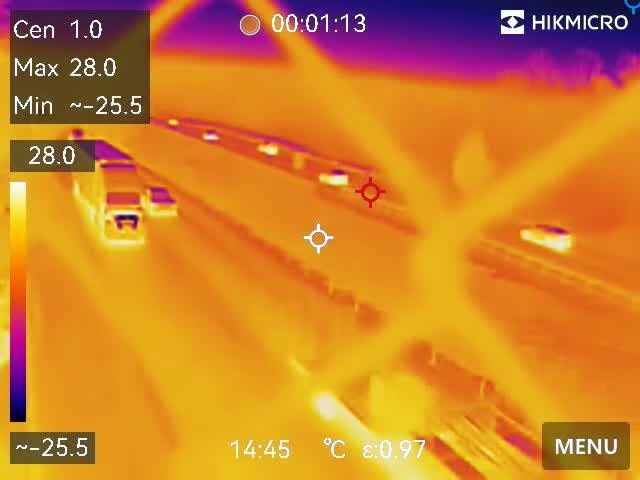heavyTruck: (67, 137, 150, 246)
largeCar: (517, 221, 582, 251)
vehicle: (143, 180, 179, 219), (252, 138, 285, 159), (318, 172, 354, 190), (201, 129, 223, 142), (164, 118, 182, 127)
